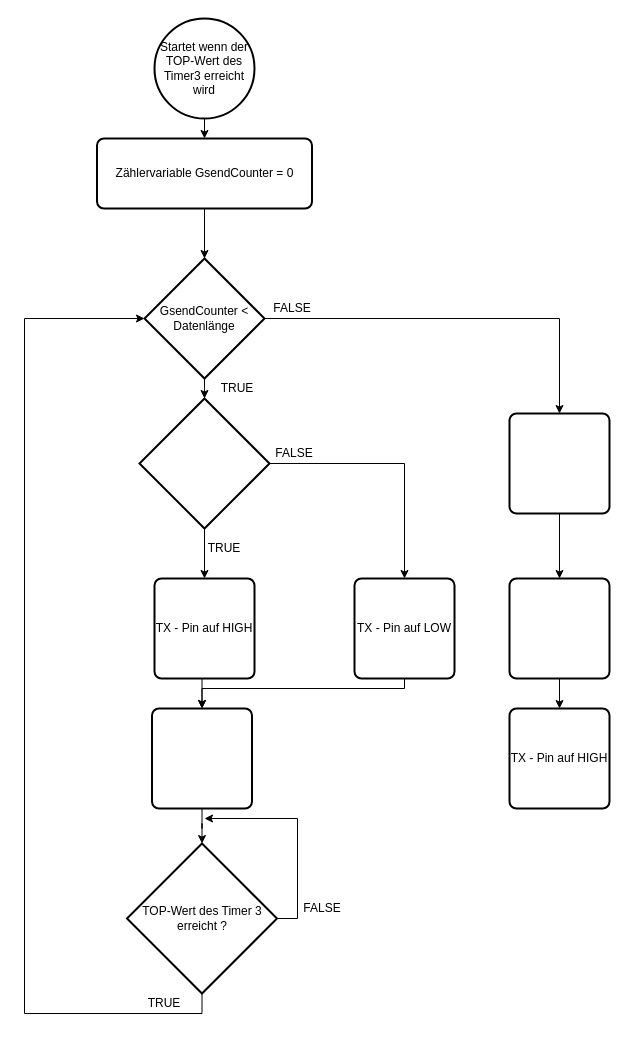
This 628x1039 diagram has some shape labels left out. The shapes that lost their labels are listed below. From the top down, each one's centre as x and y in pixels, then its label:
At point (204, 463): "Daten der Stelle GsendCounter = 1".
At point (559, 463): "Deaktiviere Timer".
At point (559, 628): "GsendCounter = 0".
At point (201, 758): "GsendCounter + 1".
